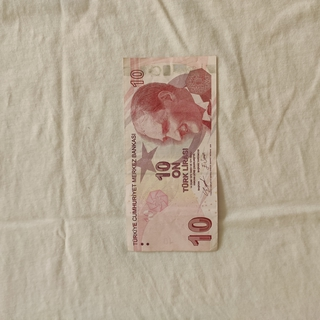10TLFront: (121, 54, 219, 253)
